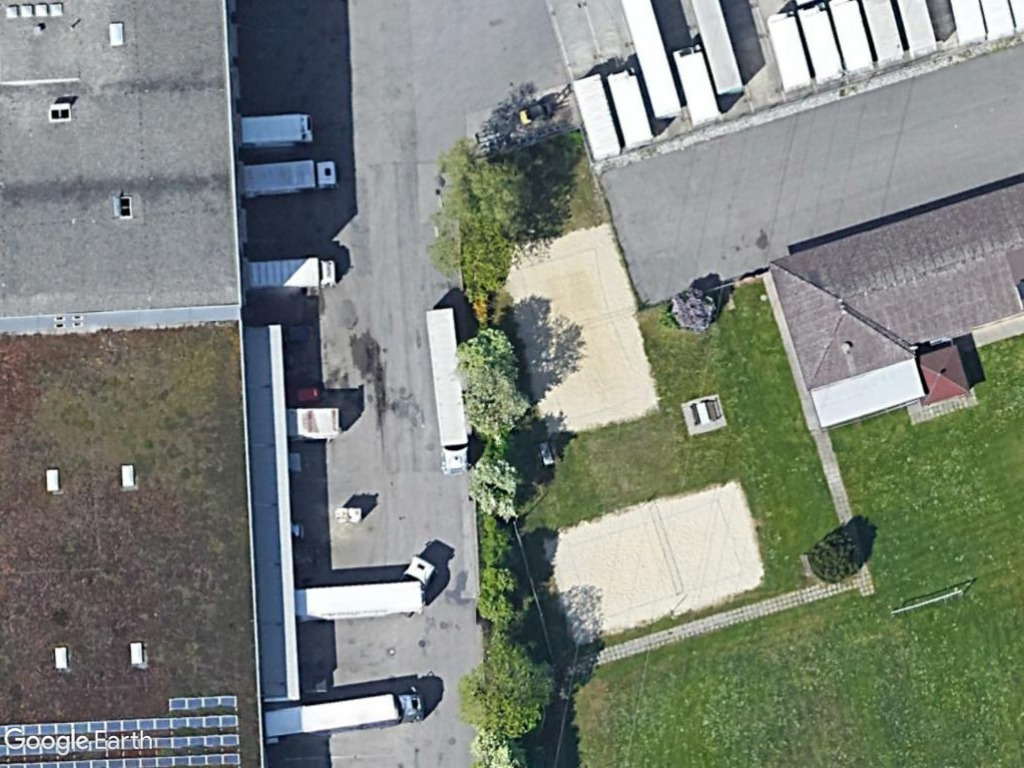truck: (263, 681, 434, 748), (422, 301, 476, 474), (238, 157, 339, 201), (240, 255, 338, 295)
